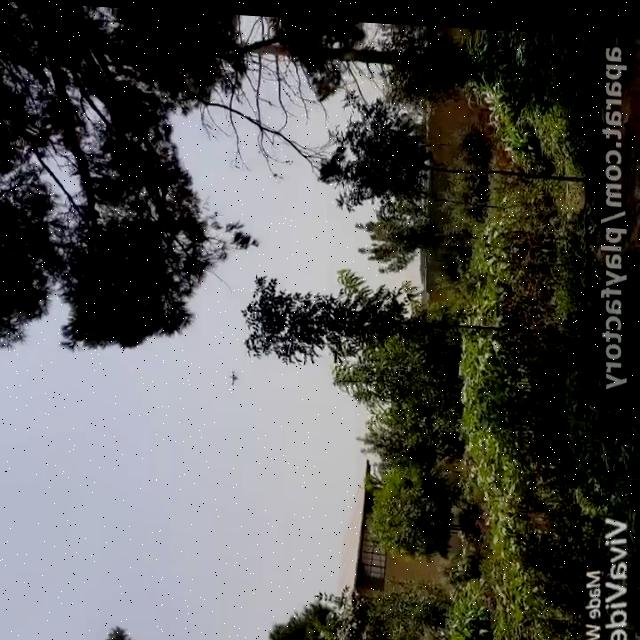drone: (224, 364, 242, 383)
